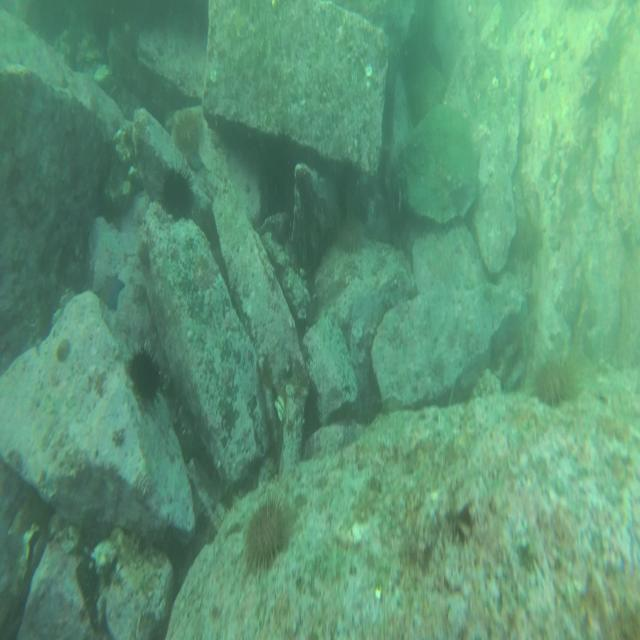echinus: (244, 496, 292, 570), (533, 356, 579, 412), (157, 158, 197, 221), (125, 348, 164, 404), (511, 214, 538, 264)
starfish: (98, 268, 125, 306)
